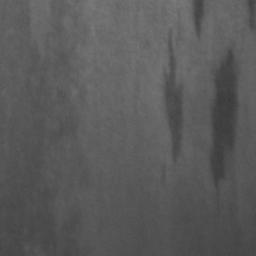Inclusion: (211, 50, 238, 184), (163, 37, 184, 160), (192, 0, 205, 36)
